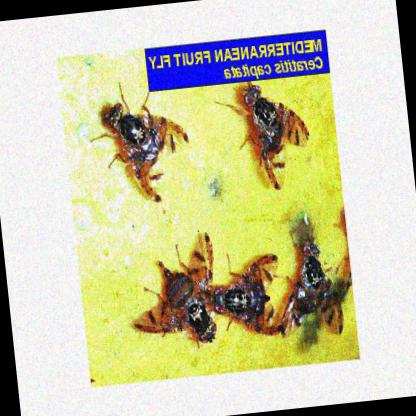fruit fly: (127, 232, 217, 345), (98, 97, 190, 199), (242, 86, 310, 193), (219, 254, 287, 334)
